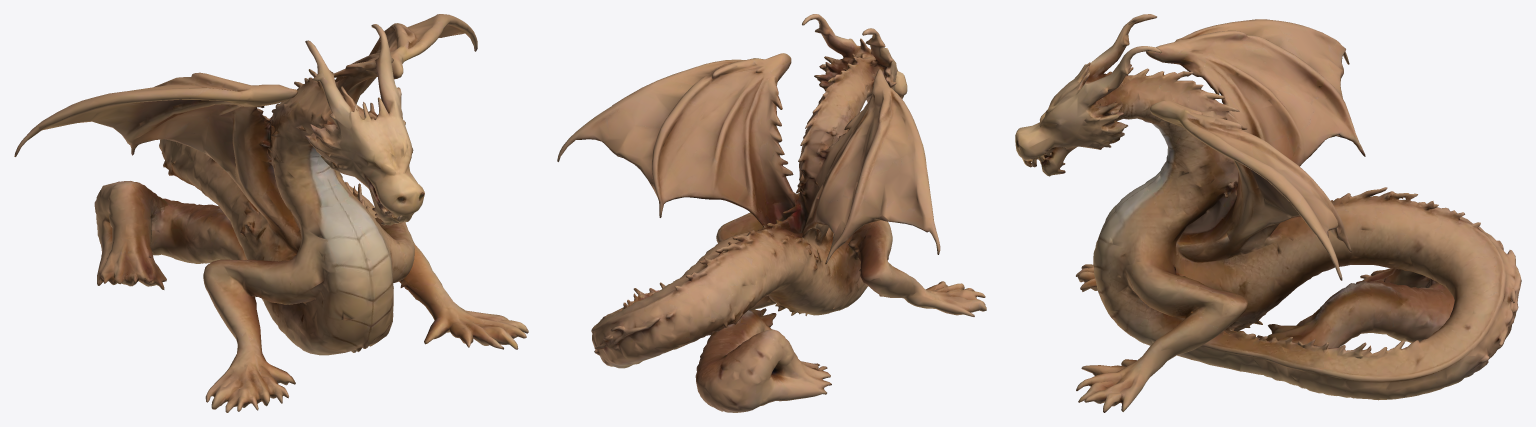
File: apex-criatura-dragon.glb
3 views of the same model, side by side, from view 1: azimuth 30°, elevation 25°; view 2: azimuth 150°, elevation 25°; view 3: azimuth 270°, elevation 25° (orthographic). The views are drawn at different scales.
Size of the model in its own units: 2 by 1.38 by 2.
1 material, 1 textured.
